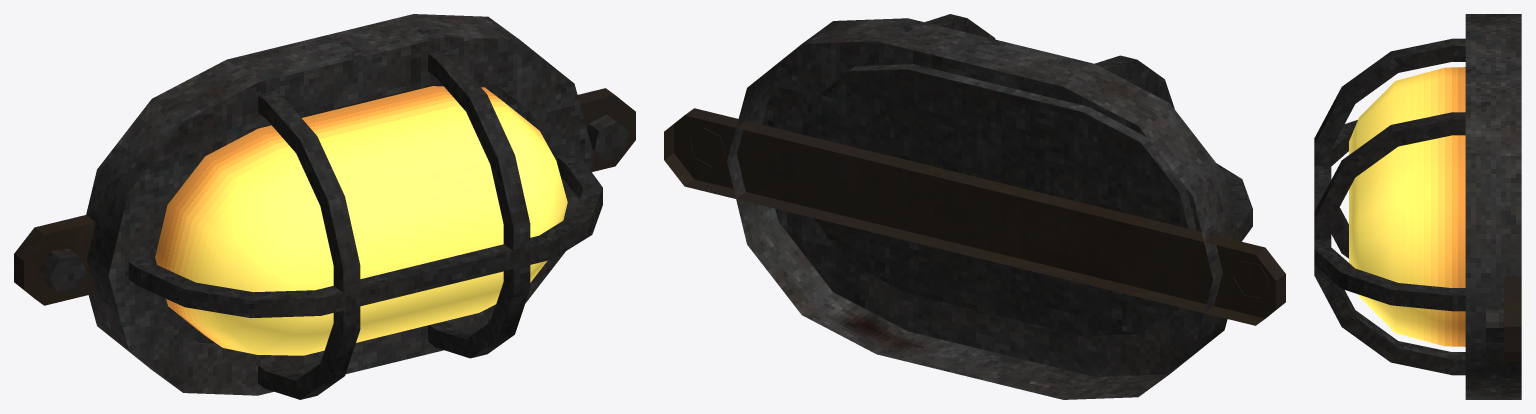
The model's file is lamp_2_on.glb.
The picture shows the model from 3 angles, left to right: view 1: azimuth 30°, elevation 25°; view 2: azimuth 150°, elevation 25°; view 3: azimuth 270°, elevation 25°; orthographic projection. The views are drawn at different scales.
Parts seen in each view (by area): view 1: lamp_2_on; view 2: lamp_2_on; view 3: lamp_2_on.
Boxes of the visible parts, <box> form: lamp_2_on: <box>14,14,635,399</box>; lamp_2_on: <box>664,14,1285,399</box>; lamp_2_on: <box>1314,14,1521,399</box>.
Bounding box in the file's own units: 0.36 × 0.176 × 0.119.
4 materials, 4 textured.
